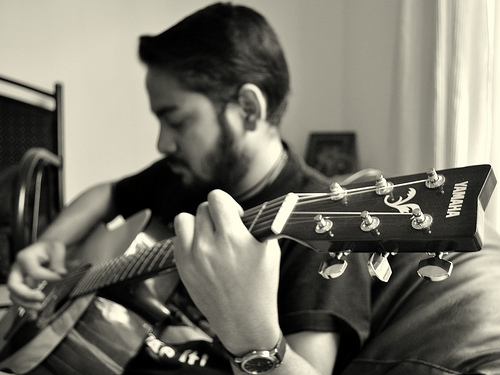guitar: (2, 161, 499, 375)
